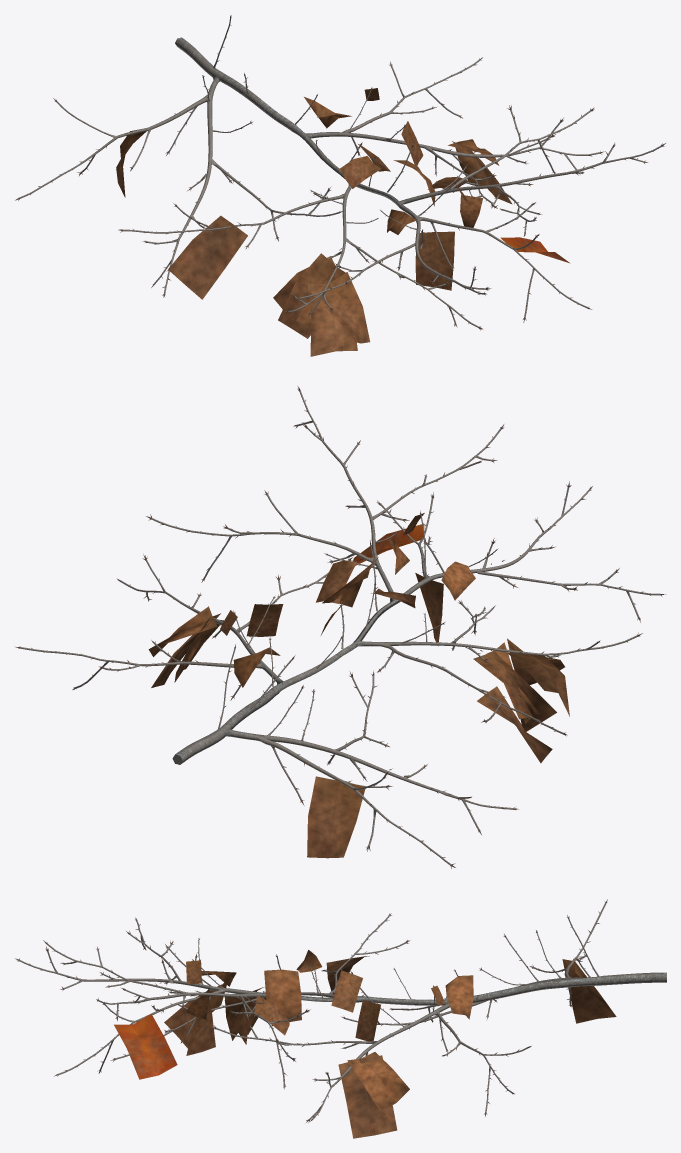
The model's file is PlantsRemainder.fbx.
3 renders of one model, top to bottom at view 1: azimuth 30°, elevation 25°; view 2: azimuth 150°, elevation 25°; view 3: azimuth 270°, elevation 25°, orthographic. The views are drawn at different scales.
Parts seen in each view (by area): view 1: Quercus_rubra_branch_HD; view 2: Quercus_rubra_branch_HD; view 3: Quercus_rubra_branch_HD.
Boxes of the visible parts, x1,y1,x2,y2 form: Quercus_rubra_branch_HD: [15, 15, 665, 356]; Quercus_rubra_branch_HD: [14, 386, 666, 868]; Quercus_rubra_branch_HD: [15, 899, 666, 1138].
Bounding box in the file's own units: 194 × 79.32 × 255.
